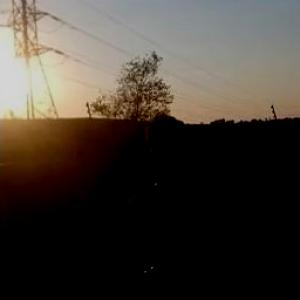follow: (116, 105, 245, 299)
